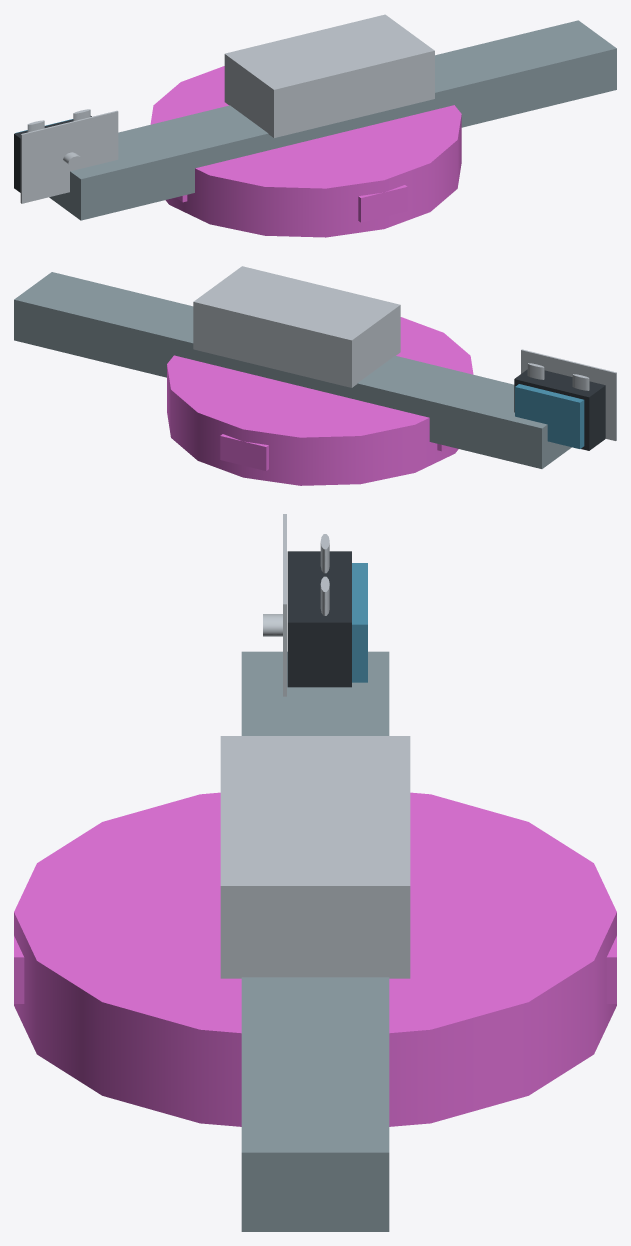
3 renders of one model, top to bottom at view 1: azimuth 30°, elevation 25°; view 2: azimuth 150°, elevation 25°; view 3: azimuth 270°, elevation 25°, orthographic. The views are drawn at different scales.
Parts seen in each view (by area): view 1: g0001, visualRotor, g0, g1, g0002; view 2: g0001, visualRotor, g0, g3, g0002, g1; view 3: visualRotor, g0001, g0, g0002, g3.
Part boxes in pixels (bbox=[...]): g0001: bbox=[49, 20, 616, 220]; visualRotor: bbox=[150, 66, 461, 237]; g0: bbox=[224, 14, 434, 137]; g1: bbox=[20, 110, 118, 203]; g0002: bbox=[14, 116, 91, 192]; g0001: bbox=[14, 272, 571, 468]; visualRotor: bbox=[167, 317, 473, 485]; g0: bbox=[193, 266, 400, 387]; g3: bbox=[515, 384, 584, 448]; g0002: bbox=[514, 369, 605, 450]; g1: bbox=[521, 349, 616, 440]; visualRotor: bbox=[14, 792, 616, 1126]; g0001: bbox=[241, 651, 389, 1231]; g0: bbox=[220, 736, 410, 978]; g0002: bbox=[287, 551, 351, 687]; g3: bbox=[352, 563, 367, 682].
Bounding box in the file's own units: 1.5 × 0.28 × 0.7.
